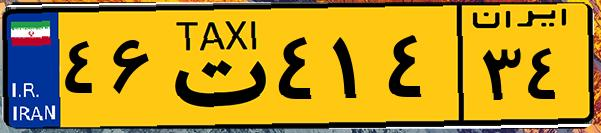1: (330, 28, 385, 110)
3: (475, 38, 525, 113)
4: (270, 28, 330, 110), (385, 28, 445, 110), (57, 26, 110, 100), (525, 38, 570, 115)
6: (110, 28, 158, 98)
ت: (158, 12, 270, 120)
